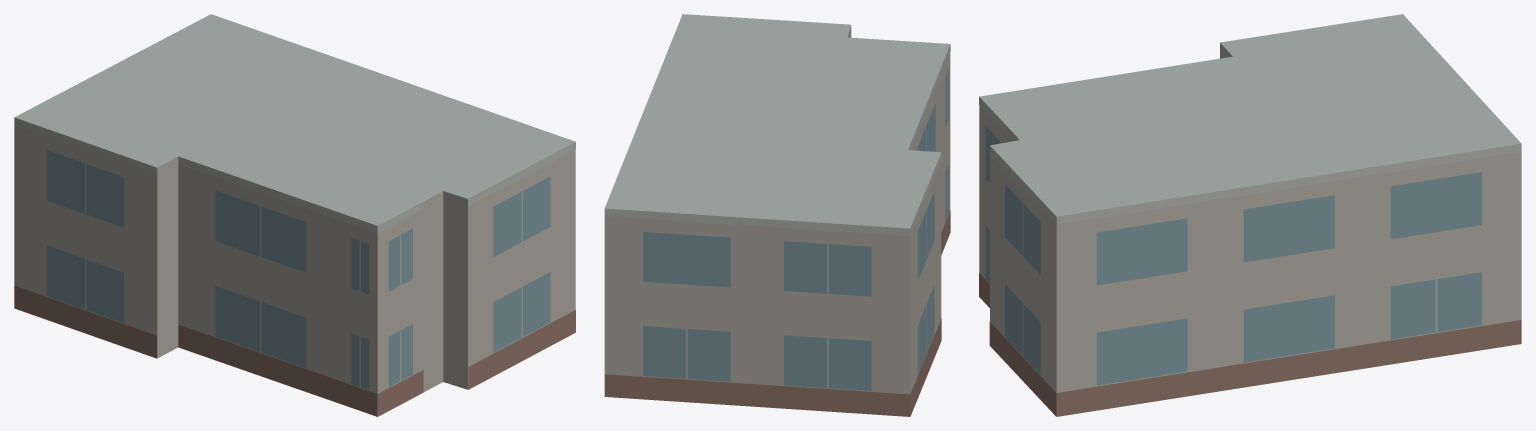
Rendered from survey-upis-32851316.glb.
The picture shows the model from 3 angles, left to right: view 1: azimuth 30°, elevation 25°; view 2: azimuth 150°, elevation 25°; view 3: azimuth 270°, elevation 25°; orthographic projection. The views are drawn at different scales.
Parts seen in each view (by area): view 1: survey-upis-32851316.tmp; view 2: survey-upis-32851316.tmp; view 3: survey-upis-32851316.tmp.
Part boxes in pixels (bbox=[...]): survey-upis-32851316.tmp: bbox=[14, 14, 575, 416]; survey-upis-32851316.tmp: bbox=[604, 14, 950, 416]; survey-upis-32851316.tmp: bbox=[979, 14, 1521, 416].
Bounding box in the file's own units: 13.25 × 6.1 × 14.99.
